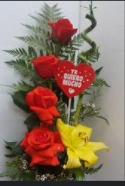RedRose: (20, 124, 69, 157), (24, 86, 61, 127)
